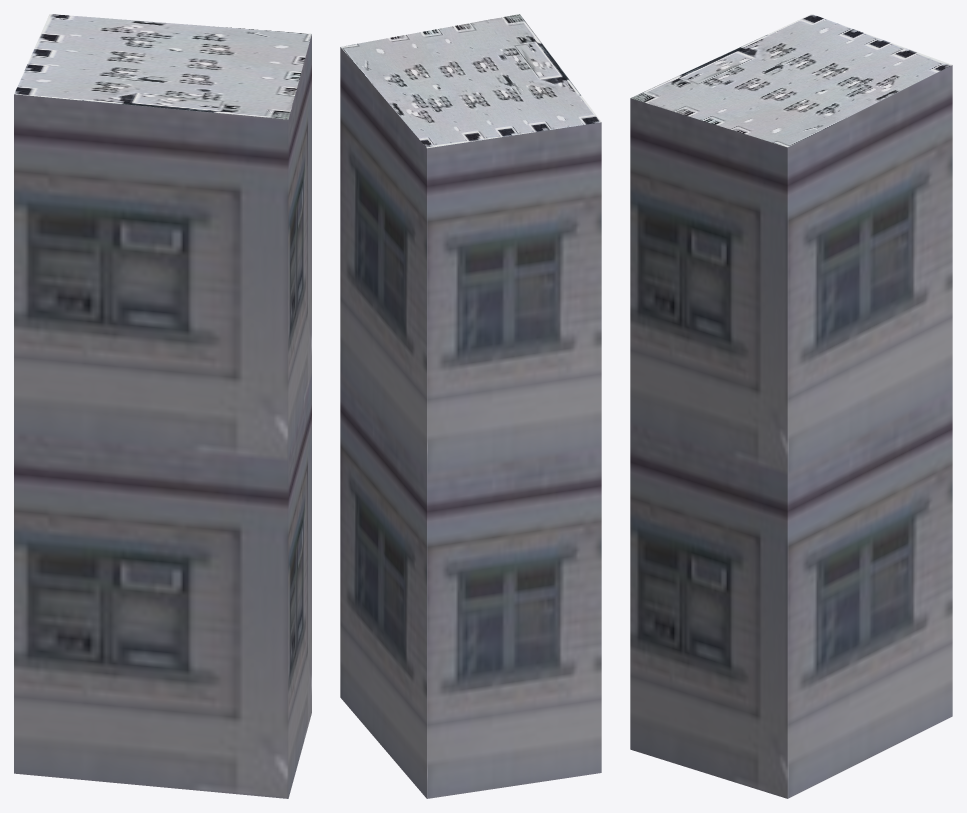
The model's file is ResTex__4685.fbx.
The picture shows the model from 3 angles, left to right: view 1: azimuth 30°, elevation 25°; view 2: azimuth 150°, elevation 25°; view 3: azimuth 270°, elevation 25°; orthographic projection. The views are drawn at different scales.
Parts seen in each view (by area): view 1: CityEngineMaterial_1_m, CityEngineMaterial_4_m; view 2: CityEngineMaterial_1_m, CityEngineMaterial_4_m; view 3: CityEngineMaterial_1_m, CityEngineMaterial_4_m.
Part boxes in pixels (box(x1,y1,x2,y2)): CityEngineMaterial_1_m: box(14, 34, 311, 798); CityEngineMaterial_4_m: box(14, 14, 311, 119); CityEngineMaterial_1_m: box(340, 47, 601, 798); CityEngineMaterial_4_m: box(341, 14, 601, 148); CityEngineMaterial_1_m: box(630, 65, 952, 798); CityEngineMaterial_4_m: box(630, 14, 951, 147).
Bounding box in the file's own units: 2.64 × 6 × 2.69.
2 materials, 2 textured.
